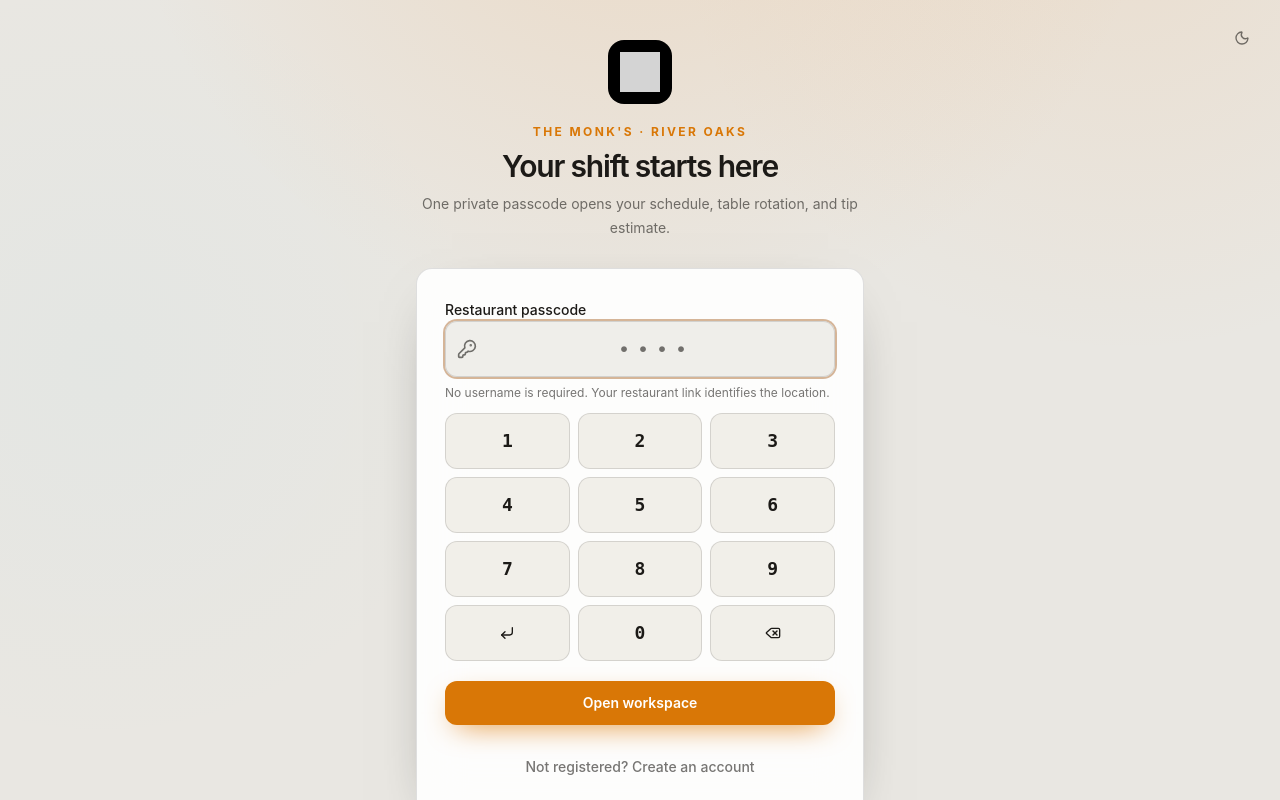
LoginScreen numeric keypad (Feature 013) › the typed input stays fully usable alongside the keypad
The image size is (1280, 800).
Click the button named "Digit 1" at (507,441), box [445,413,570,469]
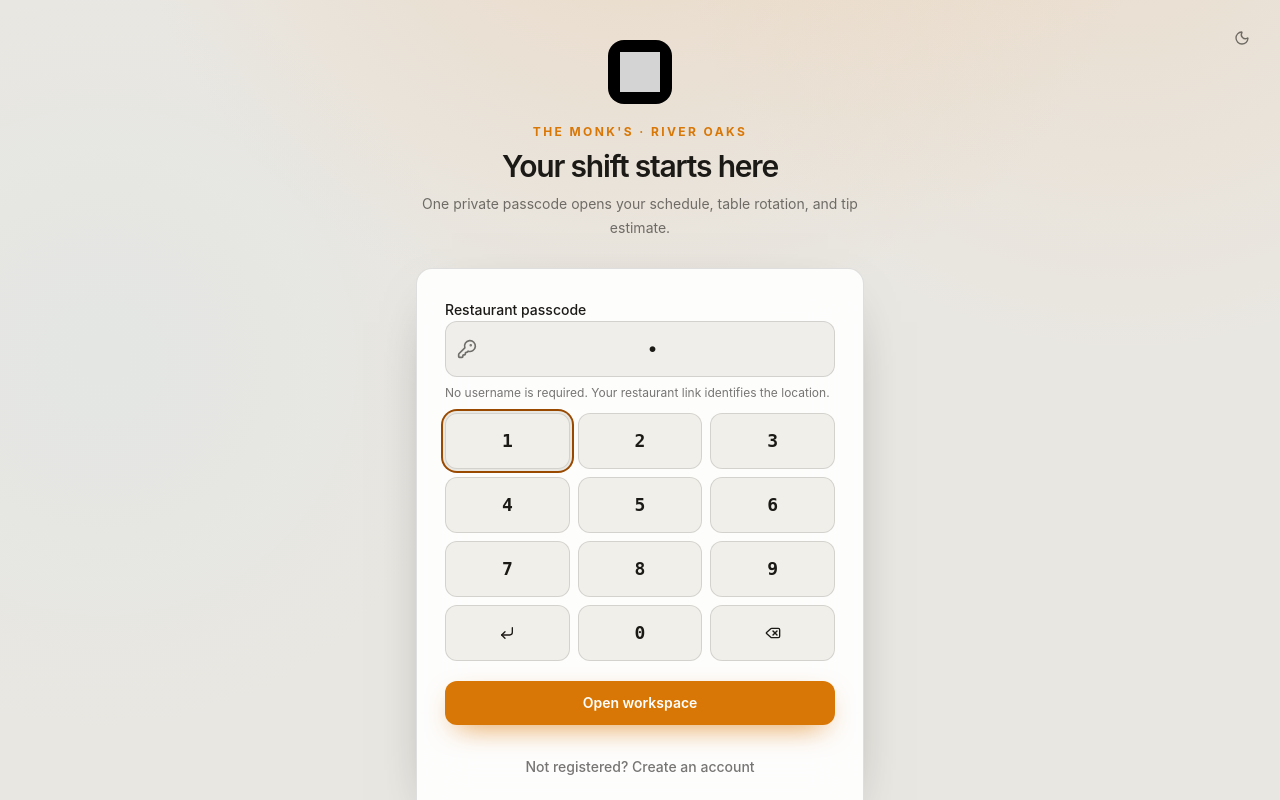
Type "357" into the password field labelled "Restaurant passcode" at (640,349), box [445,321,835,377]
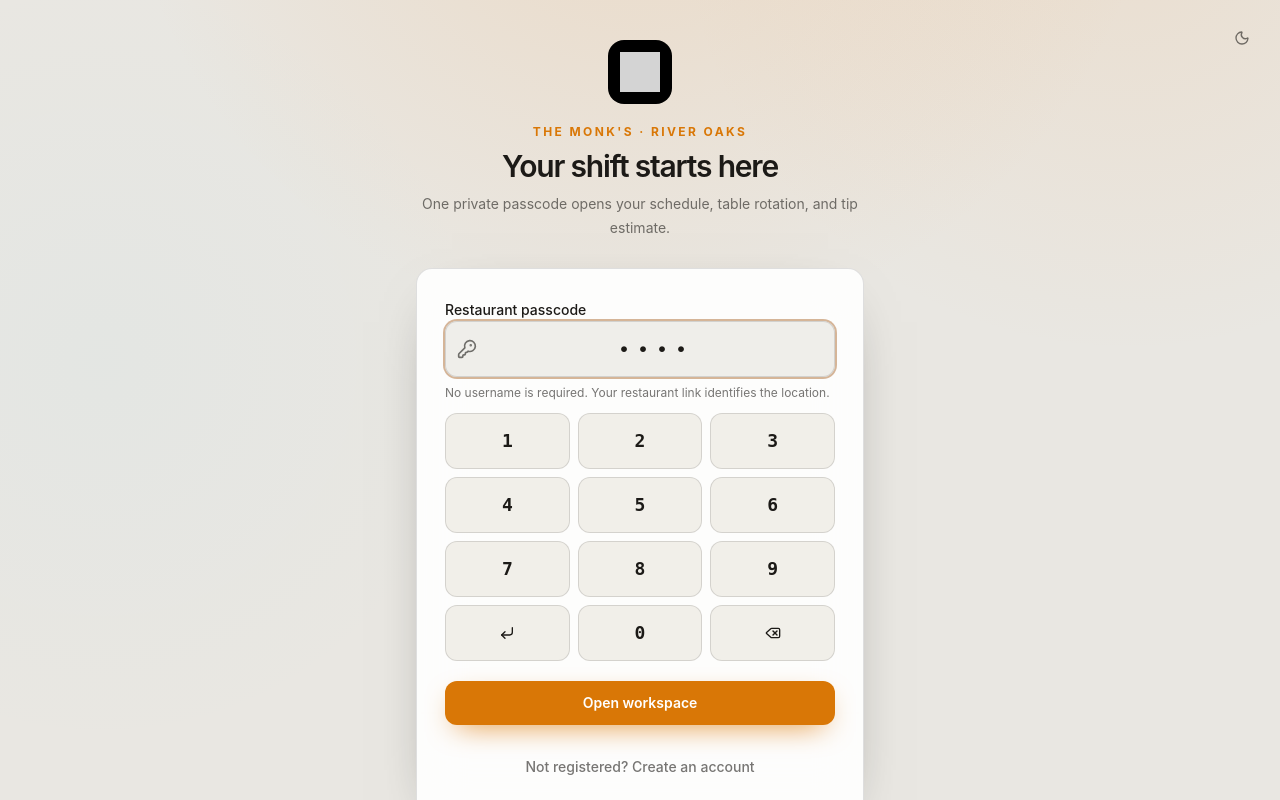
Check: the password field labelled "Restaurant passcode" holds "1357", box [445,321,835,377]
